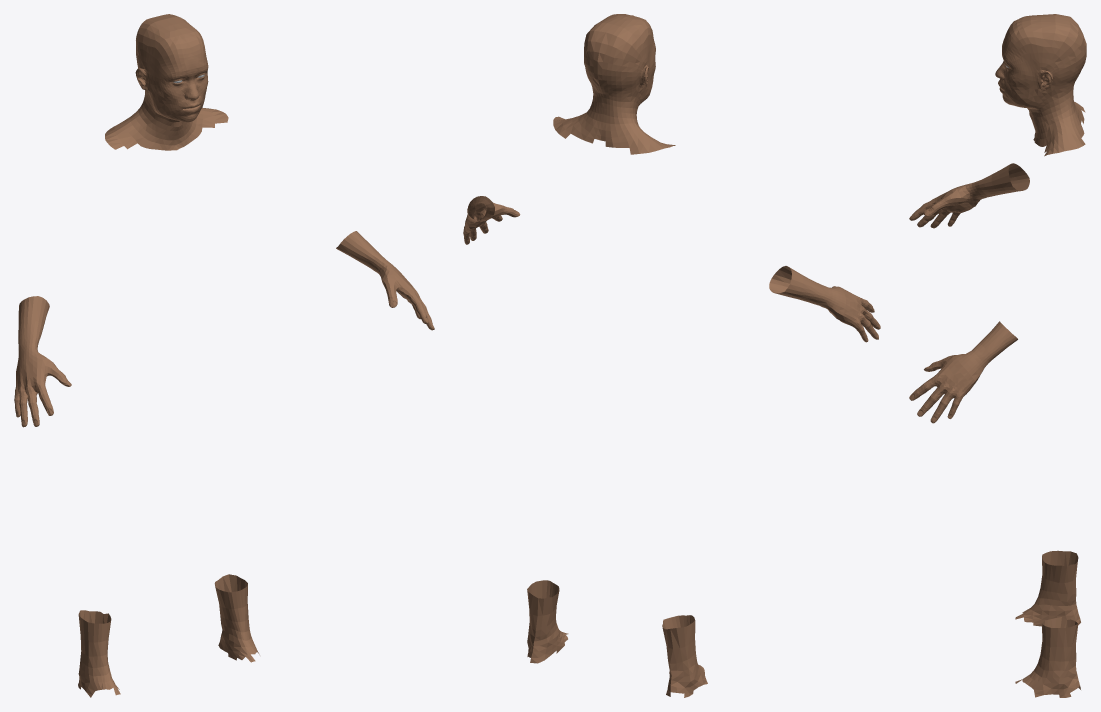
The model's file is noclothesman.obj.
3 renders of one model, left to right at view 1: azimuth 30°, elevation 25°; view 2: azimuth 150°, elevation 25°; view 3: azimuth 270°, elevation 25°, orthographic. The views are drawn at different scales.
Parts seen in each view (by area): view 1: base.obj; view 2: base.obj; view 3: base.obj.
Boxes of the visible parts, left/top/right/bottom form: base.obj: left=14, top=14, right=434, bottom=697; base.obj: left=463, top=14, right=880, bottom=697; base.obj: left=909, top=14, right=1086, bottom=697.
Bounding box in the file's own units: 10.95 × 16.64 × 4.18.
